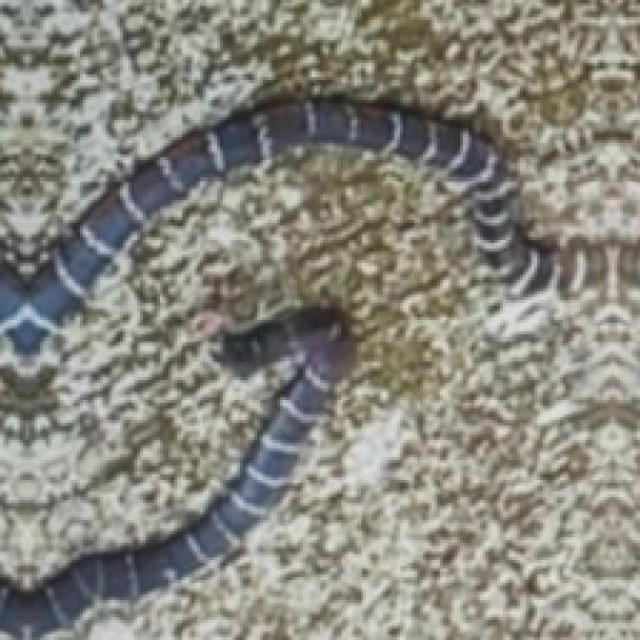barredcoral snake: (0, 97, 557, 357), (0, 309, 351, 637)
